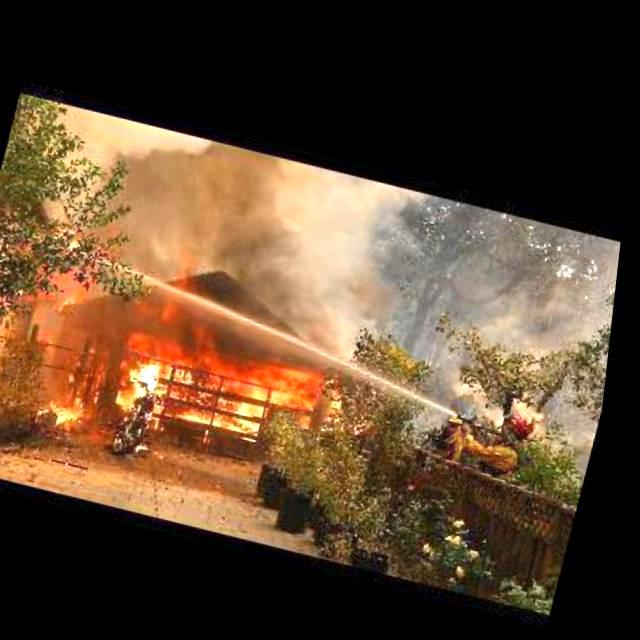fire: (117, 118, 447, 330), (51, 296, 362, 492)
